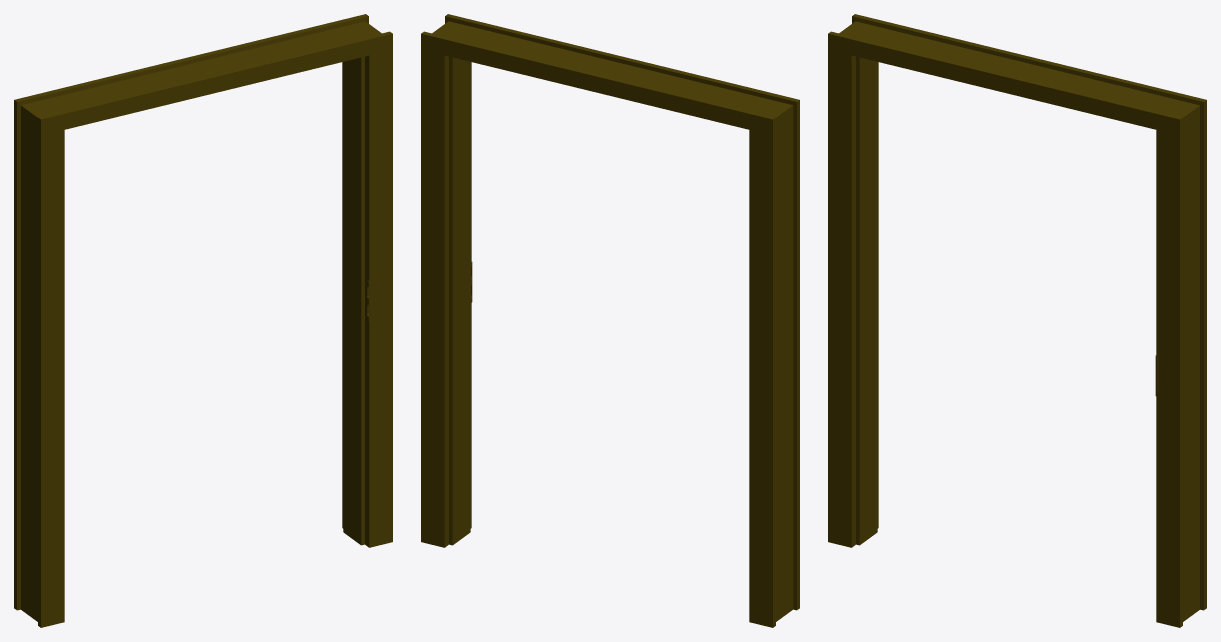
Rendered from door-part-1-gltf.gltf.
3 views of the same model, side by side, from view 1: azimuth 30°, elevation 25°; view 2: azimuth 150°, elevation 25°; view 3: azimuth 330°, elevation 25° (orthographic).
Parts seen in each view (by area): view 1: Plane002; view 2: Plane002; view 3: Plane002.
Part boxes in pixels (<box>): Plane002: <box>14,14,392,627</box>; Plane002: <box>421,14,799,627</box>; Plane002: <box>828,14,1206,627</box>.
Size of the model in its own units: 2.04 by 2.81 by 0.2721.
Materials: 1 (1 with a texture image).
